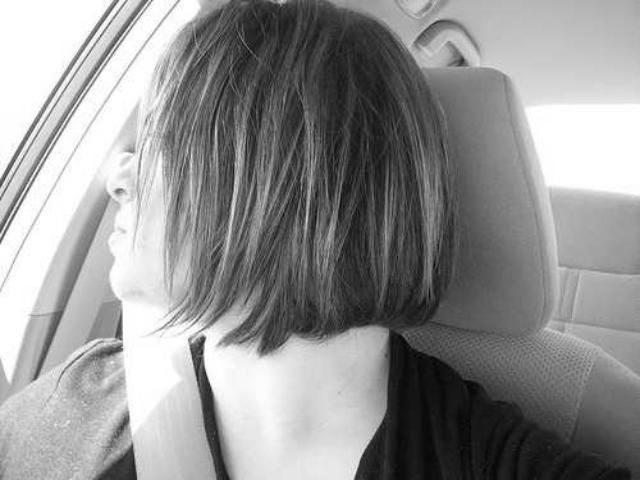Seatbelt: (117, 290, 225, 480)
